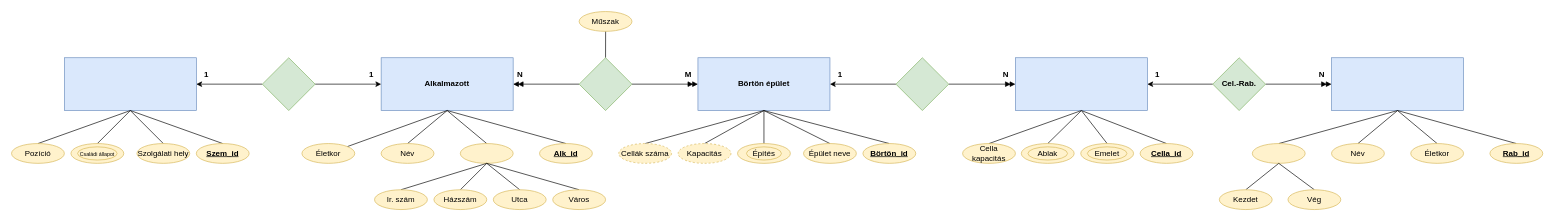
This 1554x221 diagram has some shape labels left out. The shapes that lost their labels are listed below. From the top down, each one's centre as x and y in pixels, then its label:
At [130,84]: "Személyzet".
At [288,84]: "Sze.-Alk.".
At [605,84]: "Alk.-Bör.".
At [922,84]: "Bör.-Cel.".
At [1081,84]: "Cellák".
At [1397,84]: "Rab".
At [486,153]: "Lakhely".
At [1278,153]: "Letöltendő".
